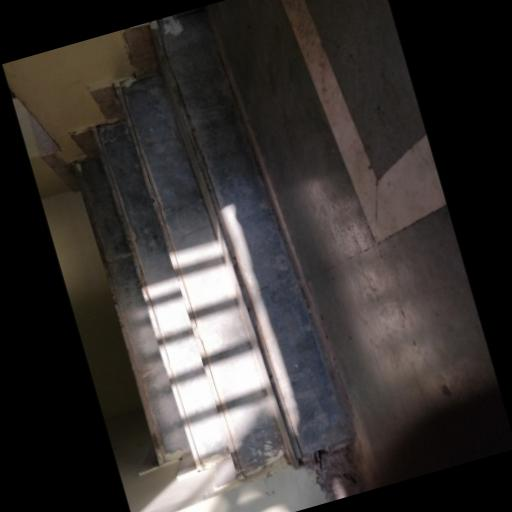stairs: (78, 12, 353, 476)
